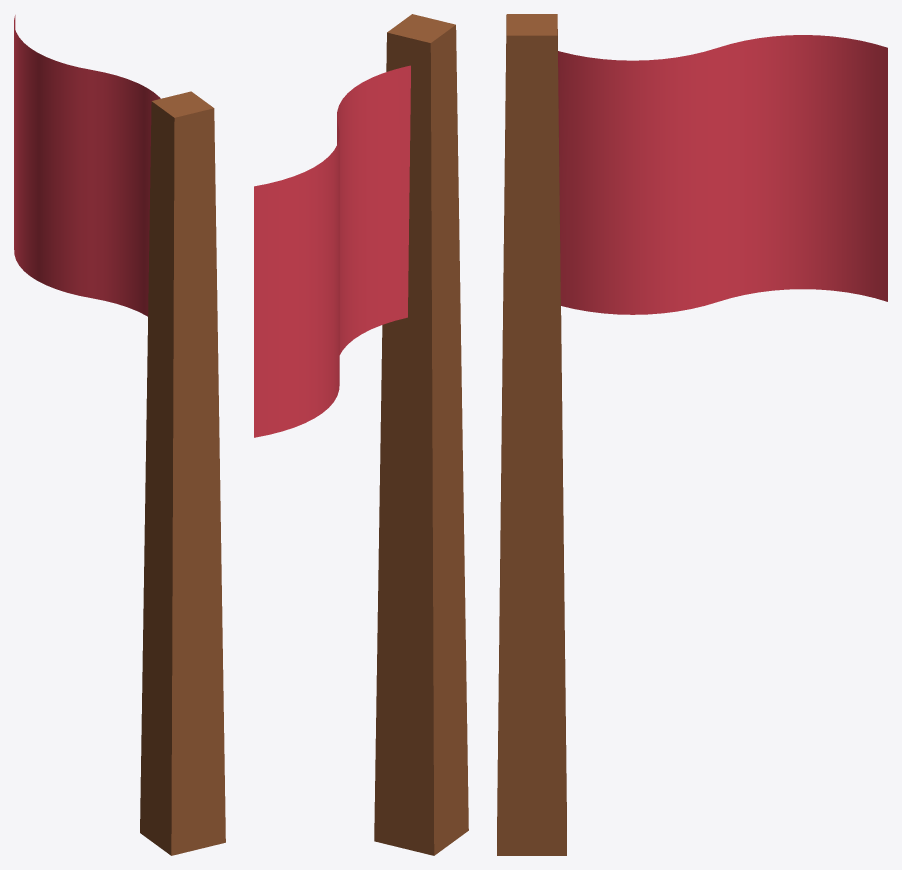
The model's file is flag.dae.
3 renders of one model, left to right at view 1: azimuth 30°, elevation 25°; view 2: azimuth 150°, elevation 25°; view 3: azimuth 270°, elevation 25°, orthographic. The views are drawn at different scales.
Parts seen in each view (by area): view 1: flag; view 2: flag; view 3: flag.
Part boxes in pixels (x1,y1,x2,y2): flag: (14,15,225,855); flag: (254,14,468,855); flag: (497,14,887,855).
Size of the model in its own units: 0.0754 by 0.9 by 0.3905.
